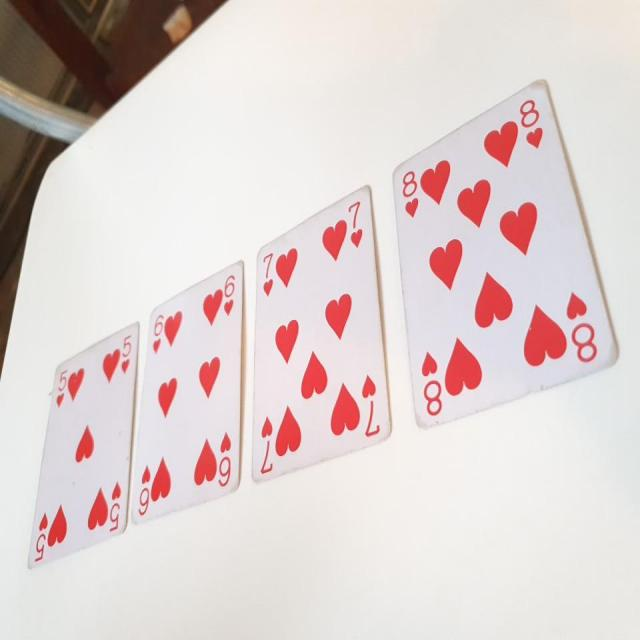5 Hearts: (32, 325, 142, 570)
6 Hearts: (132, 250, 246, 532)
7 Hearts: (248, 180, 398, 497)
8 Hearts: (394, 64, 621, 433)
